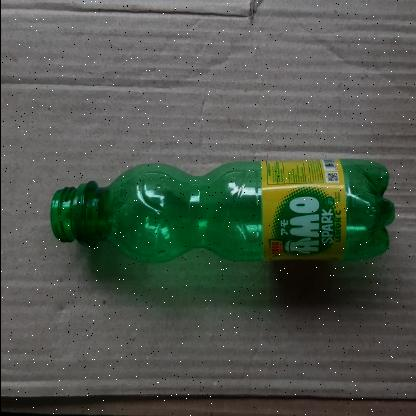Plastic Bottle: (55, 130, 407, 322)
